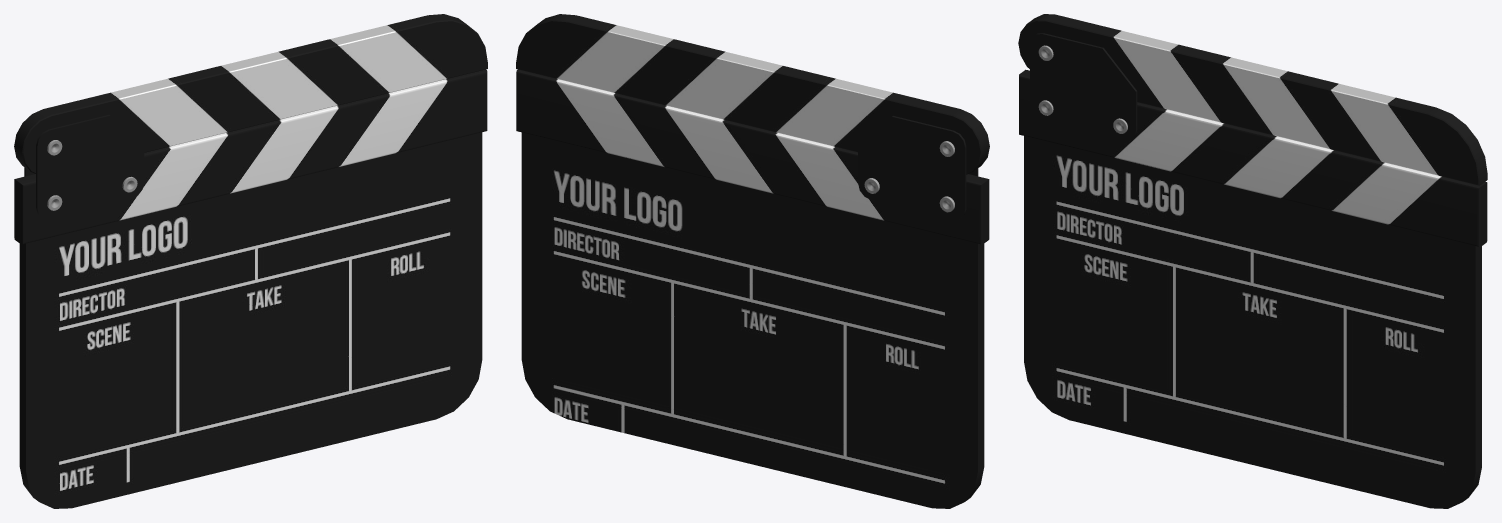
Rendered from Clapper.fbx.
3 views of the same model, side by side, from view 1: azimuth 30°, elevation 25°; view 2: azimuth 150°, elevation 25°; view 3: azimuth 330°, elevation 25° (orthographic).
Visible parts, largest first — view 1: Board, Clapper; view 2: Board, Clapper; view 3: Board, Clapper.
Part boxes in pixels (x1,y1,x2,y2): Board: (14,69,487,508); Clapper: (14,14,487,173); Board: (516,69,989,508); Clapper: (516,14,989,174); Board: (1019,33,1487,508); Clapper: (1018,14,1487,185).
Bounding box in the file's own units: 0.0147 × 0.012 × 0.000868.
2 materials, 1 textured.
